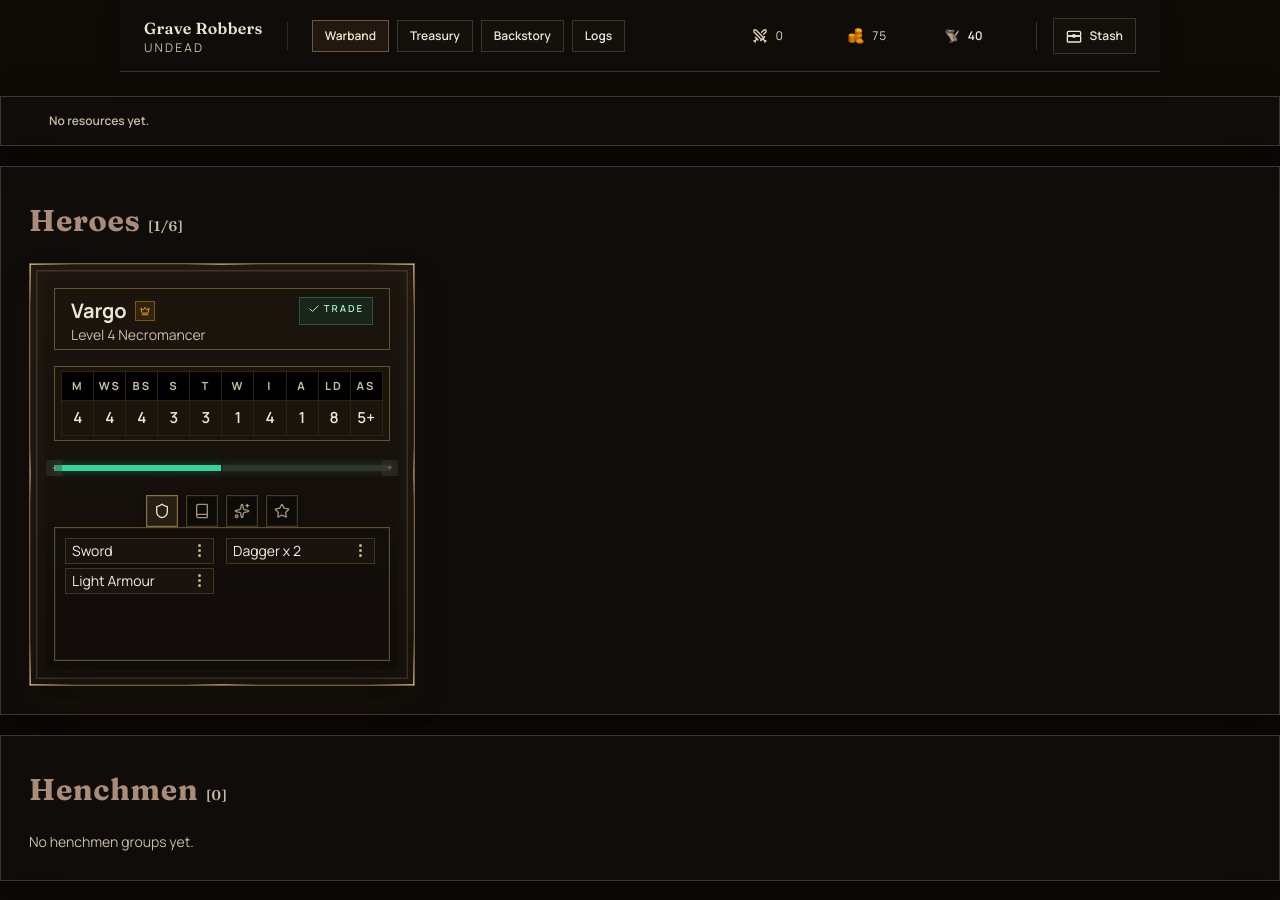
Test case: Warband page: item actions on another player's warband (BUG-107) › offers that warband's heroes as Move targets to an admin without a warband
Step 1. Click the button with aria-label "Warband stash" → (1094, 36), box [1052,18,1136,54]
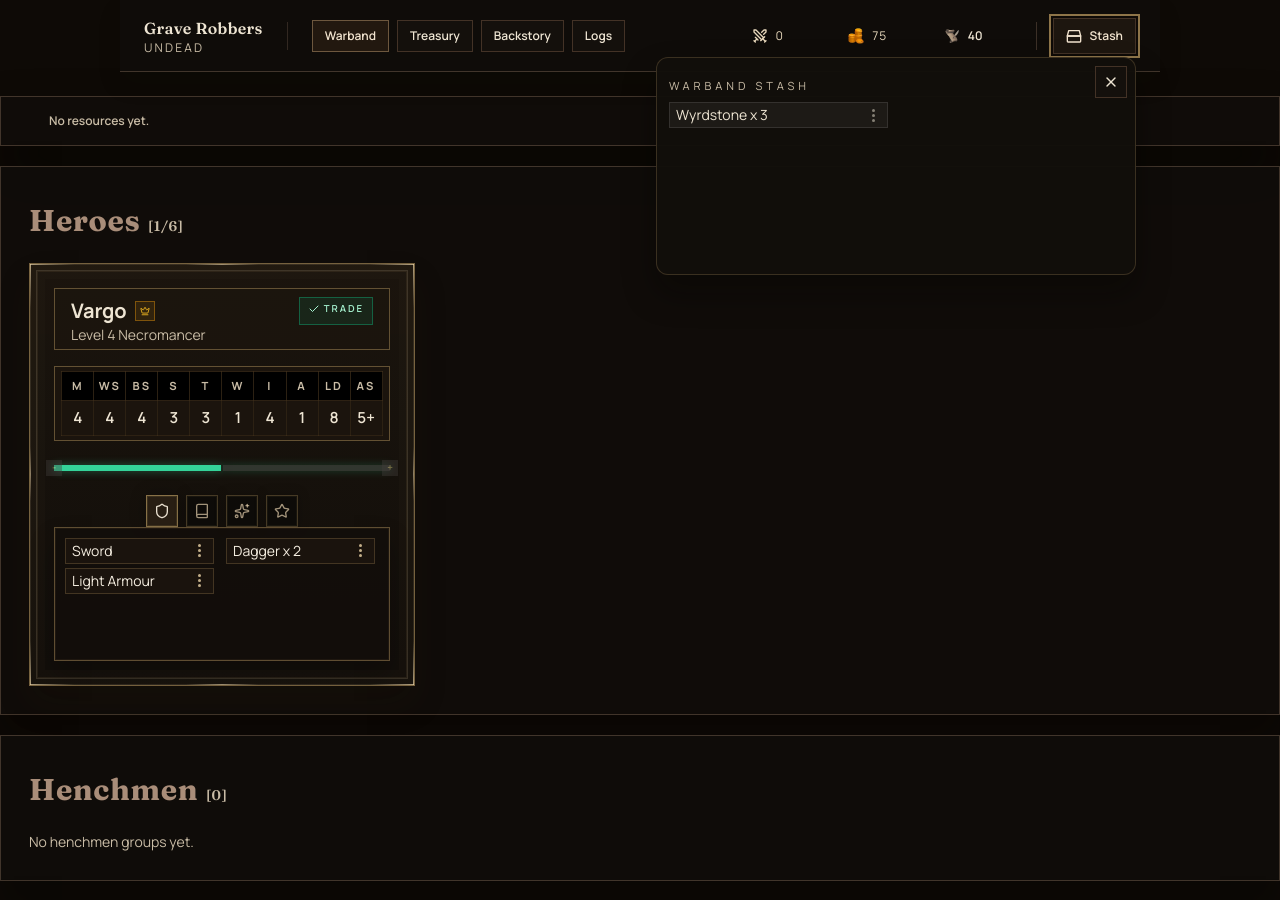
Step 2. Click the button named "Actions for Wyrdstone x 3" → (873, 116), box [865,106,881,126]
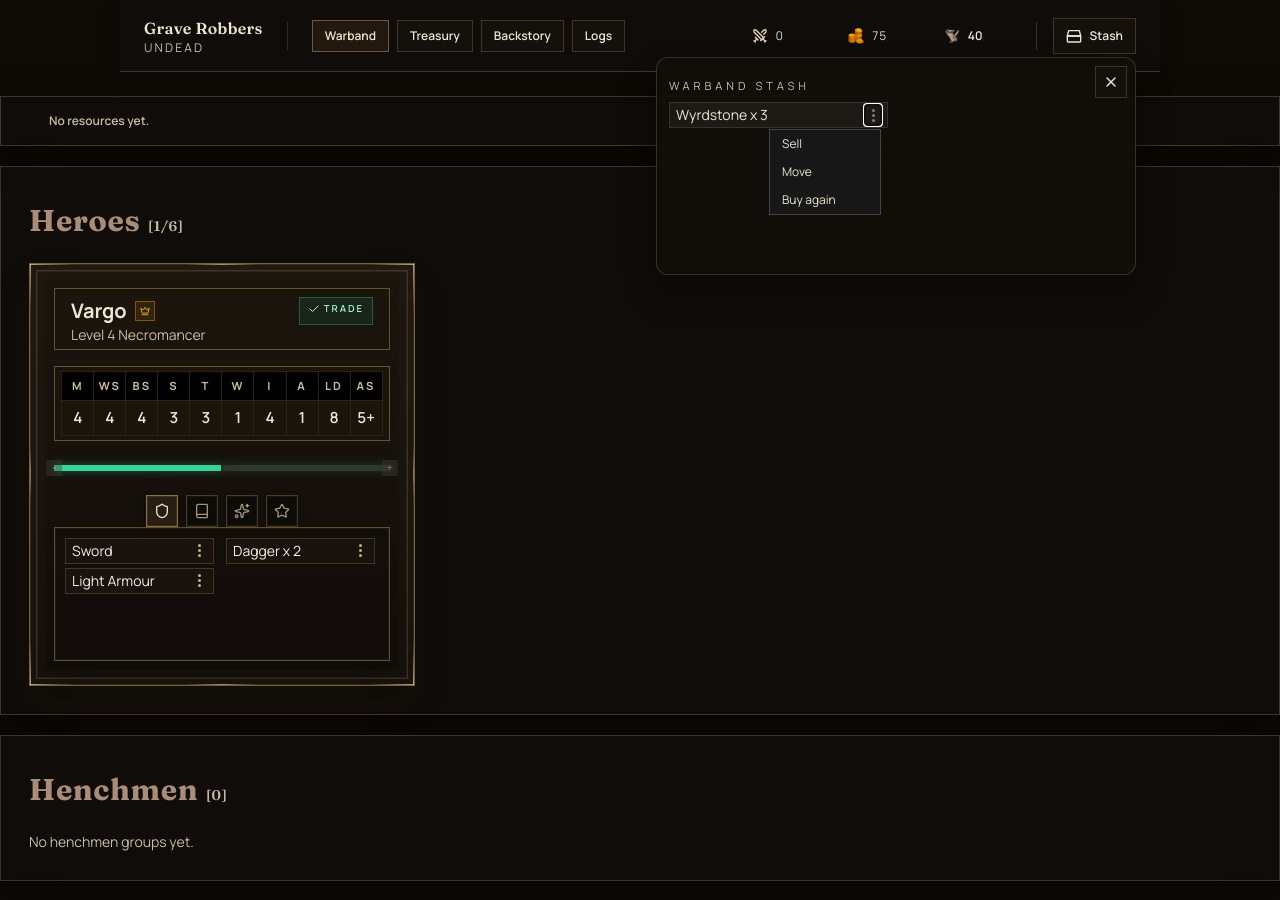
Step 3. Click the button "Move" → (825, 172), box [770,158,880,186]
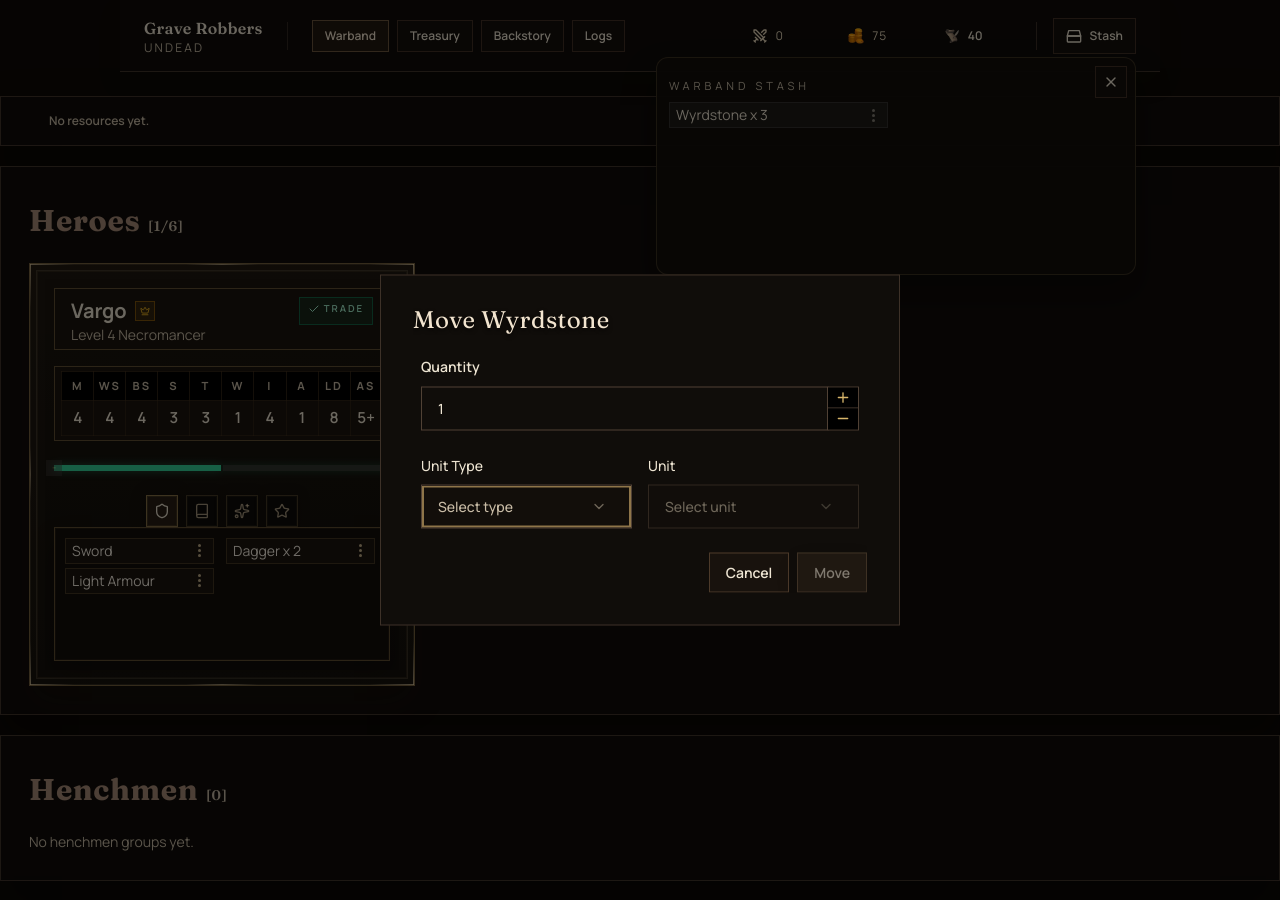
Step 4. Press Enter
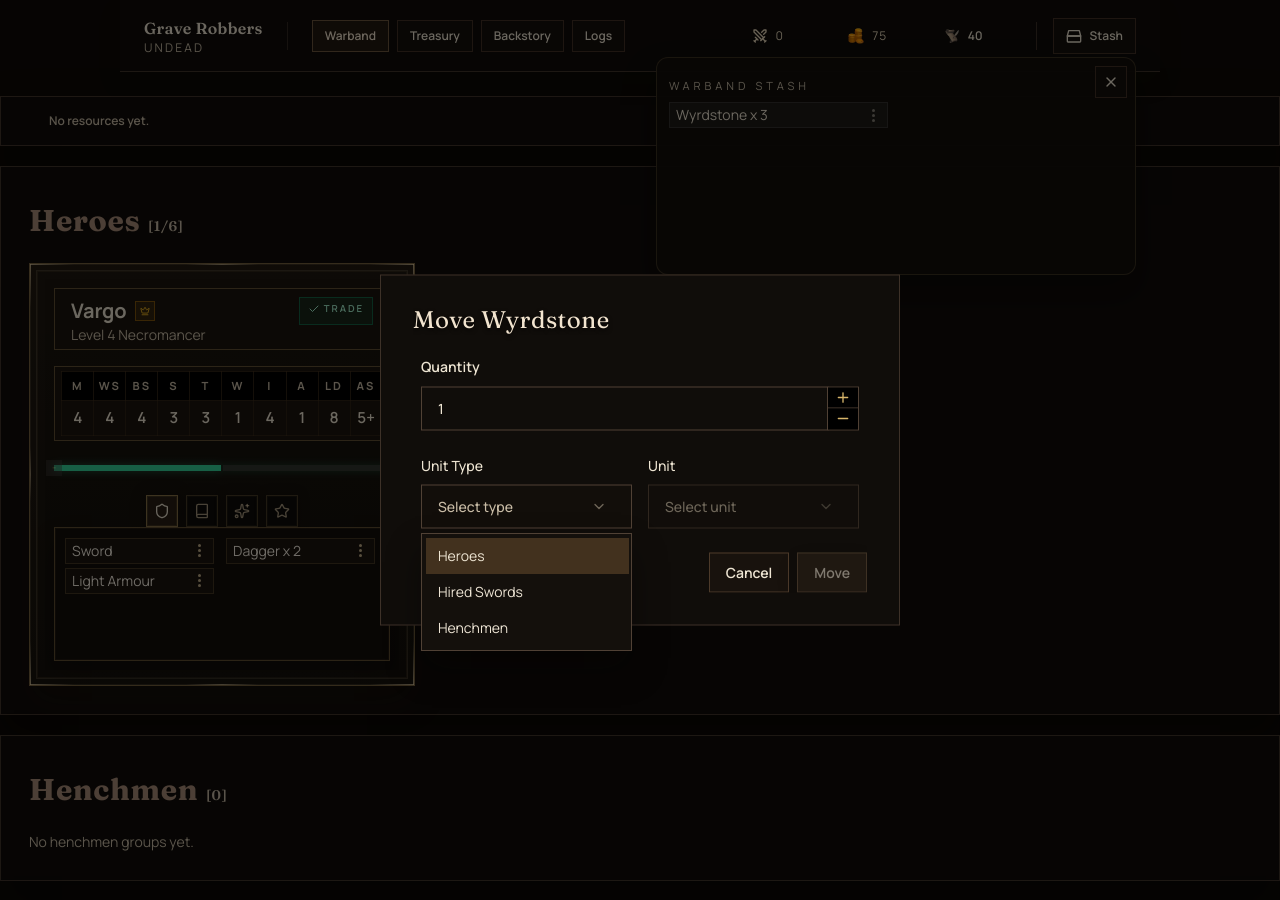
Step 5. Press Enter
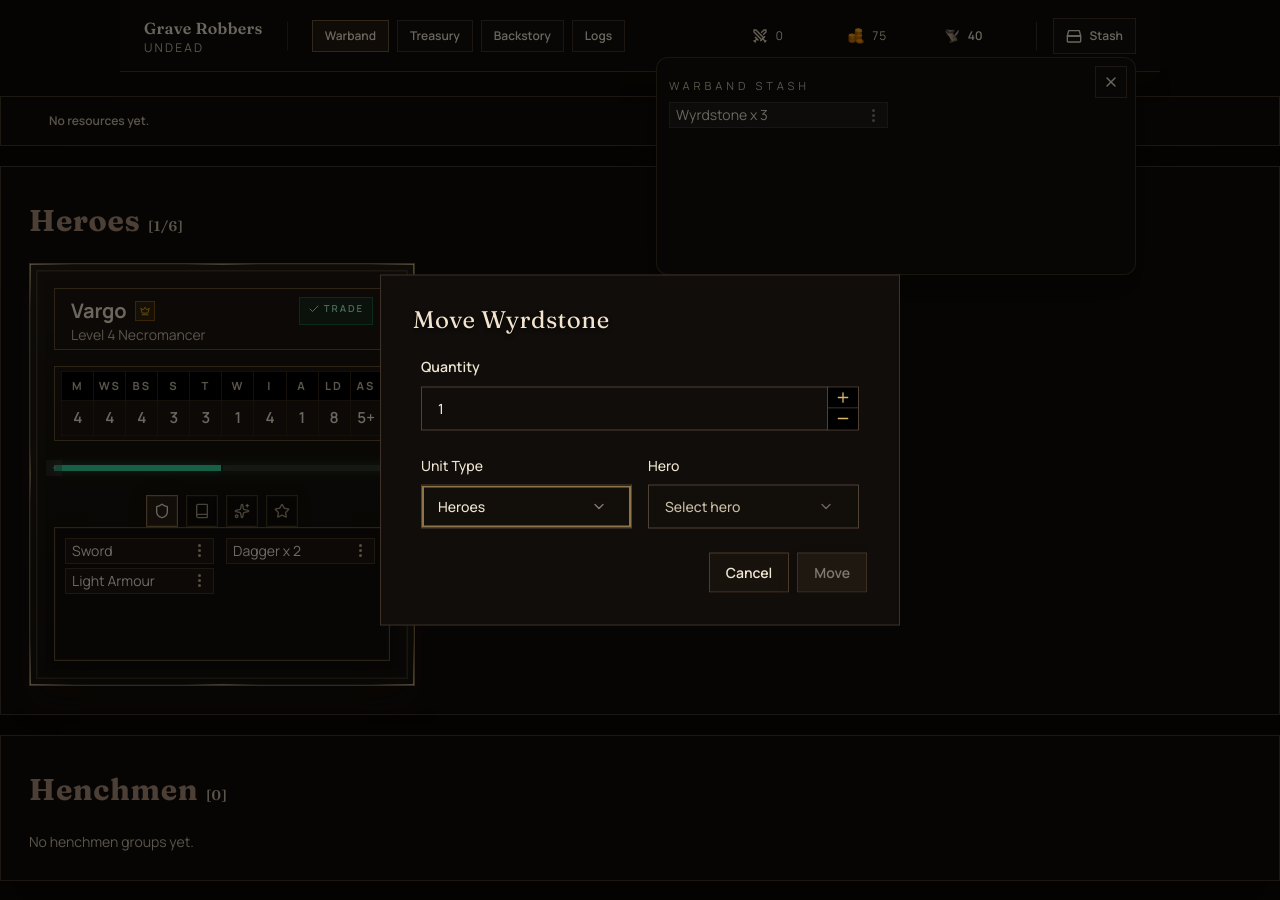
Step 6. Click the dropdown labelled "Select hero" → (754, 506), box [648,484,859,528]
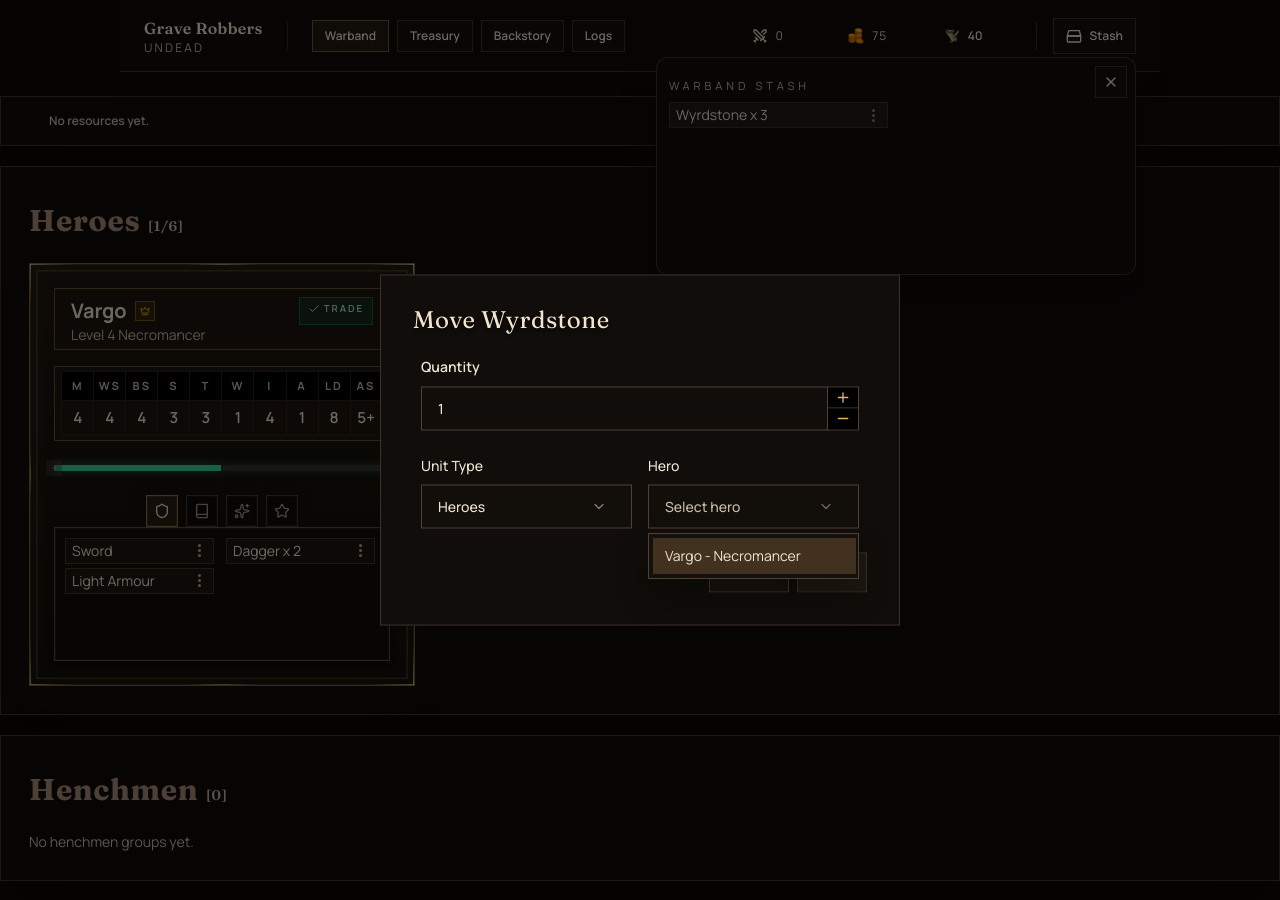
Expected: the options read "Vargo - Necromancer", in this order, [653,538,856,574]
